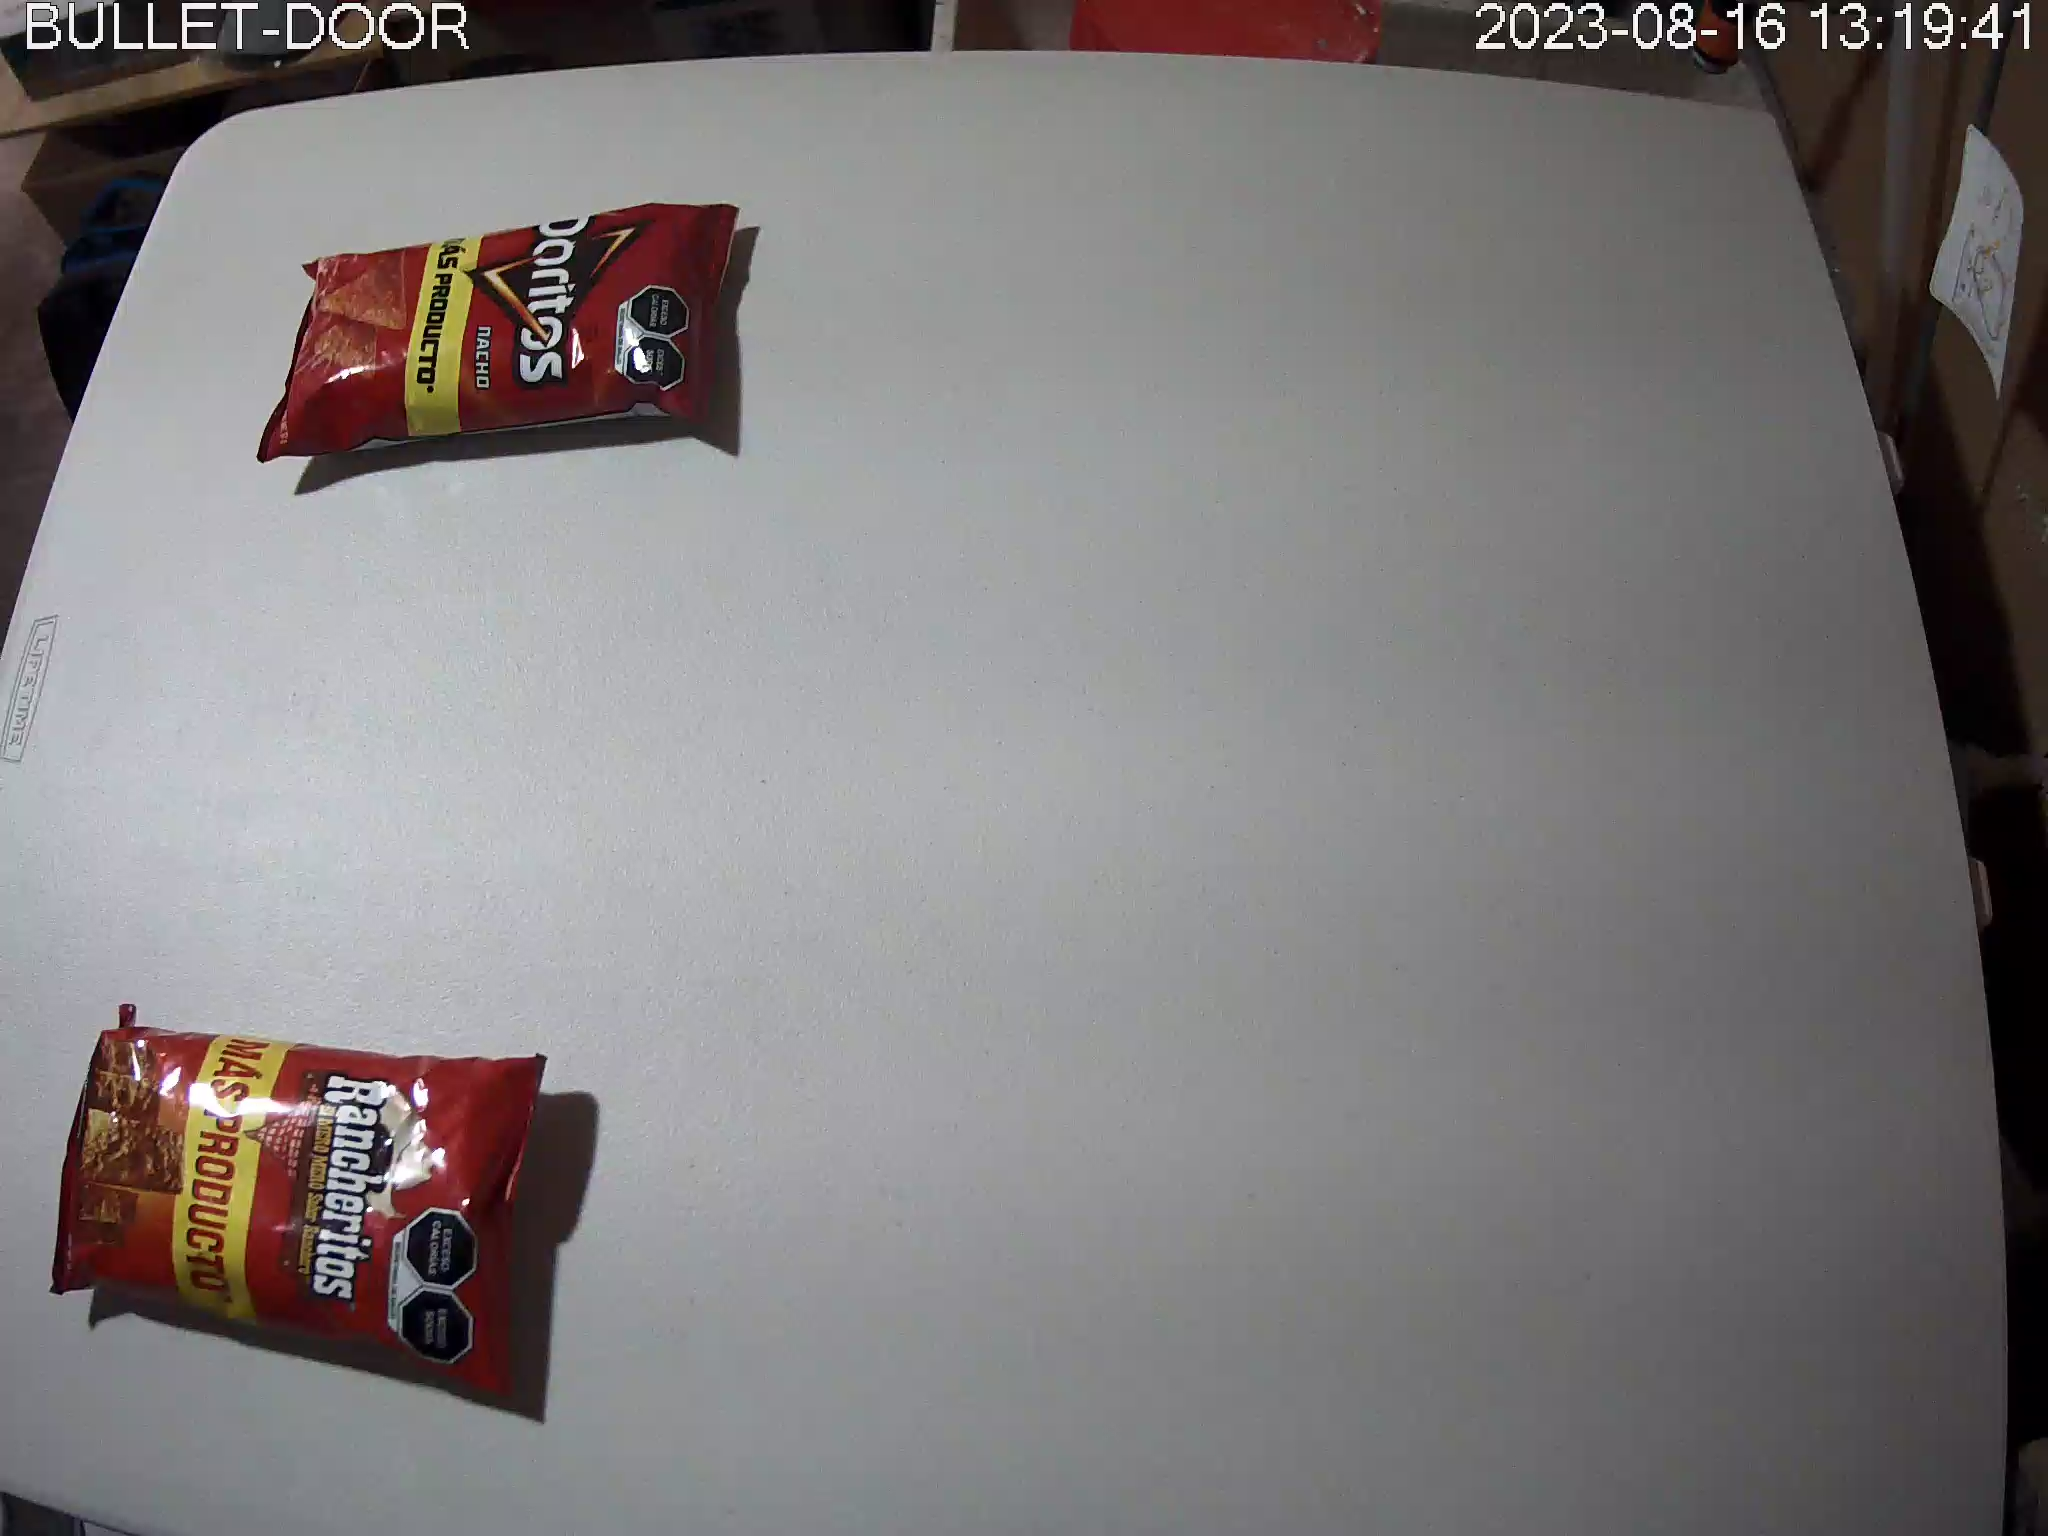DoritosN_61_F: (256, 200, 742, 463)
Rancheritos_58_F: (47, 1004, 547, 1396)
